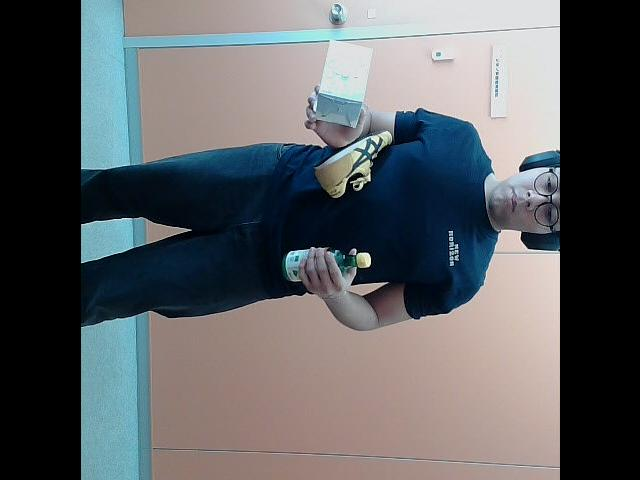Blind_box: (298, 36, 376, 130)
Lemon_sapporo: (280, 239, 372, 289)
Shoes: (313, 128, 394, 200)
